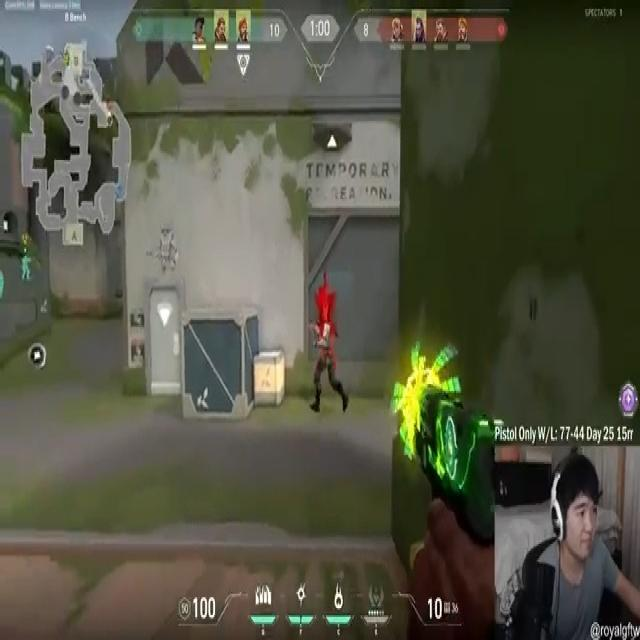enemy: (310, 317, 351, 422)
